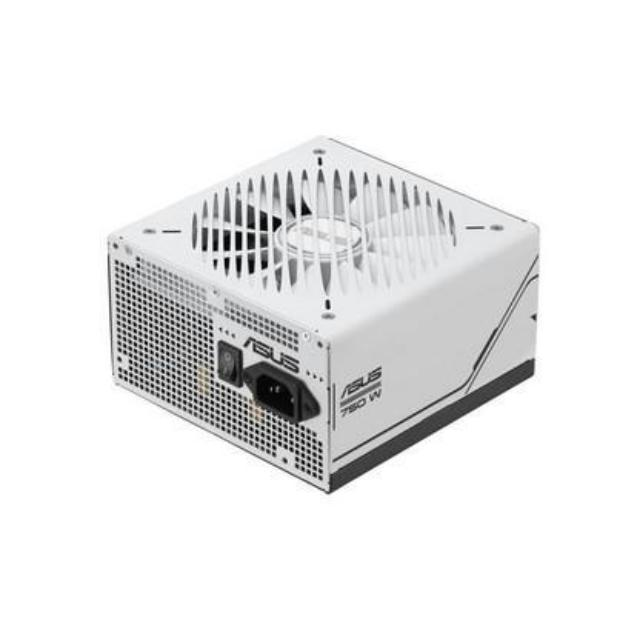PSU: (87, 132, 553, 503)
